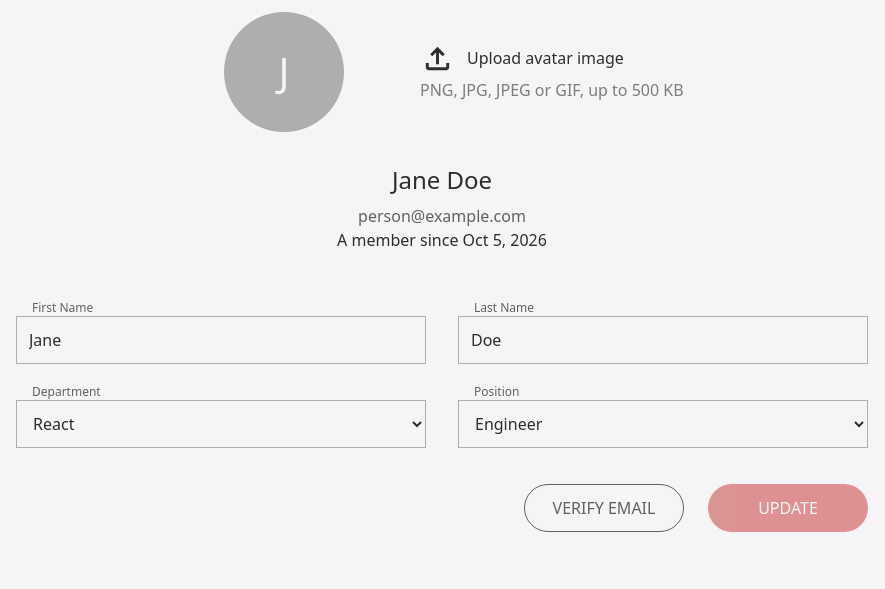
Test: My Profile › preserves edited values when the update request fails
This screenshot has width=885, height=589.
Check: the dropdown labelled "Department" is enabled, box [16,400,426,448]
Replace the text in the field labelled "First Name" with "Janet". click: (221, 340)
box: [16,316,426,364]
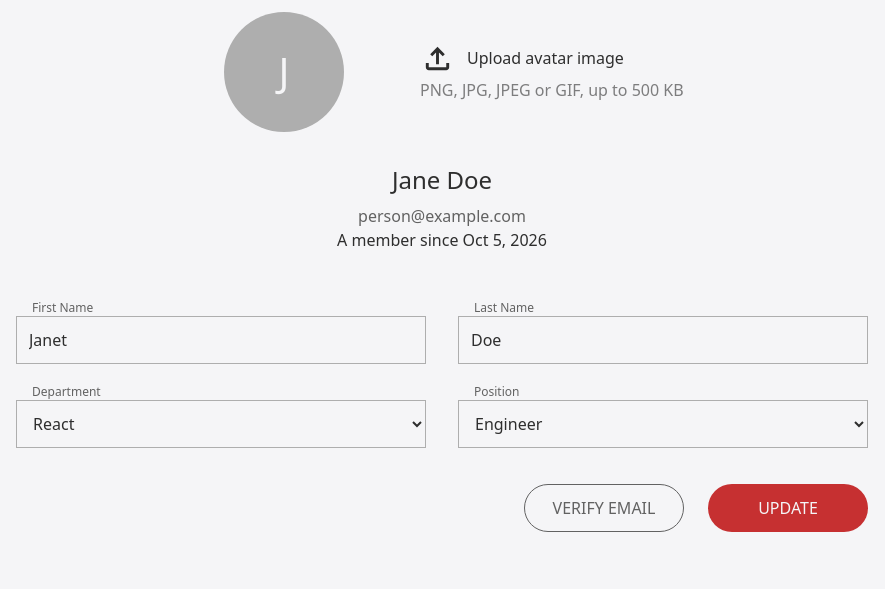
Click the button "Update". click: (788, 508)
box: [708,484,868,532]
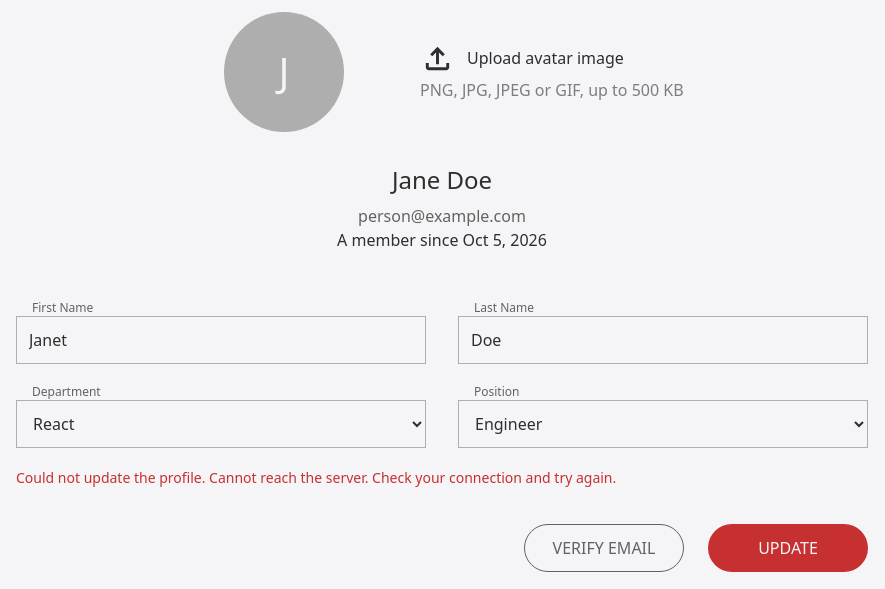
Check: the text "Could not update the profile" is shown, box [16,468,616,487]
